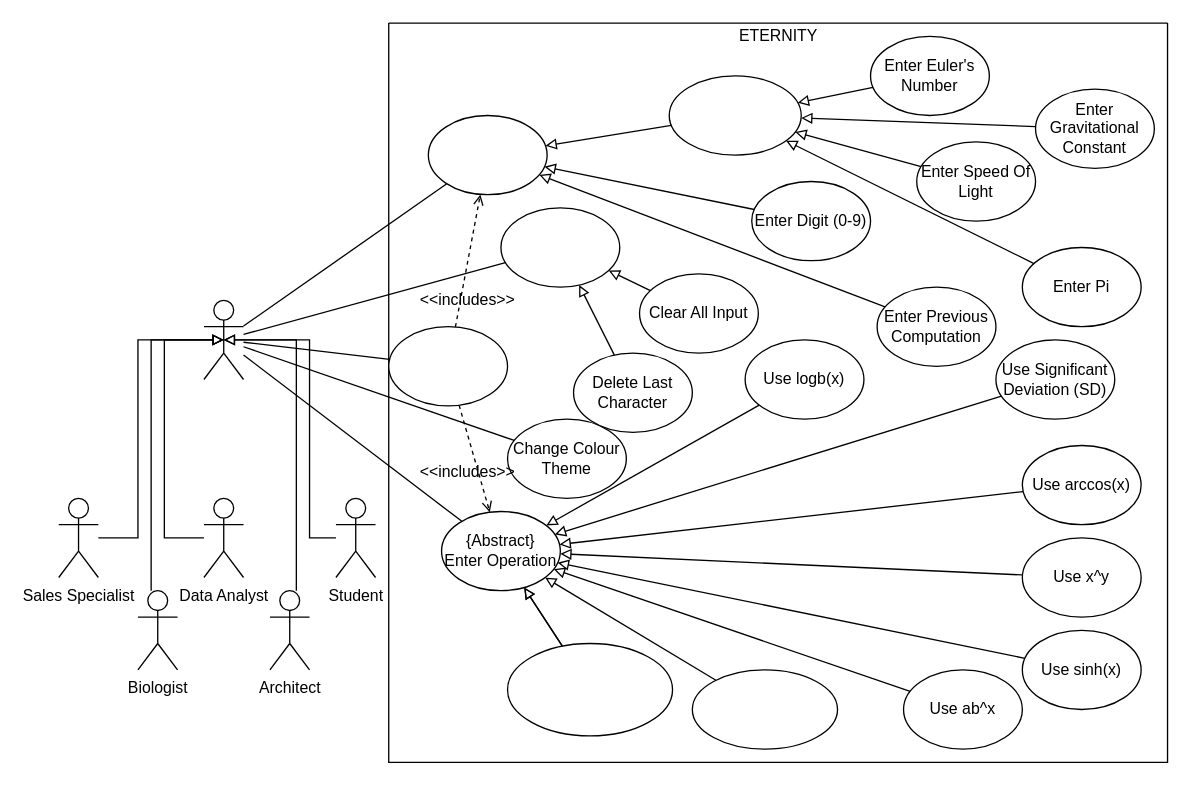
Image size: 1191x785. Some labels were removed from this diagram. Each missing label, with the centre of its shape:
"Receive Computation Result" goes at point (447, 365).
"Use Basic Arithmetics (+, -, /, *)" goes at point (589, 689).
"Use Mean Absolute Deviation (MAD)" goes at point (764, 709).
"{Abstract} Delete Input" goes at point (560, 247).
"{Abstract} Enter Constants" goes at point (734, 115).
"{Abstract} Enter Values" goes at point (487, 154).
"{Abstract} ETERNITY User" goes at point (223, 339).
